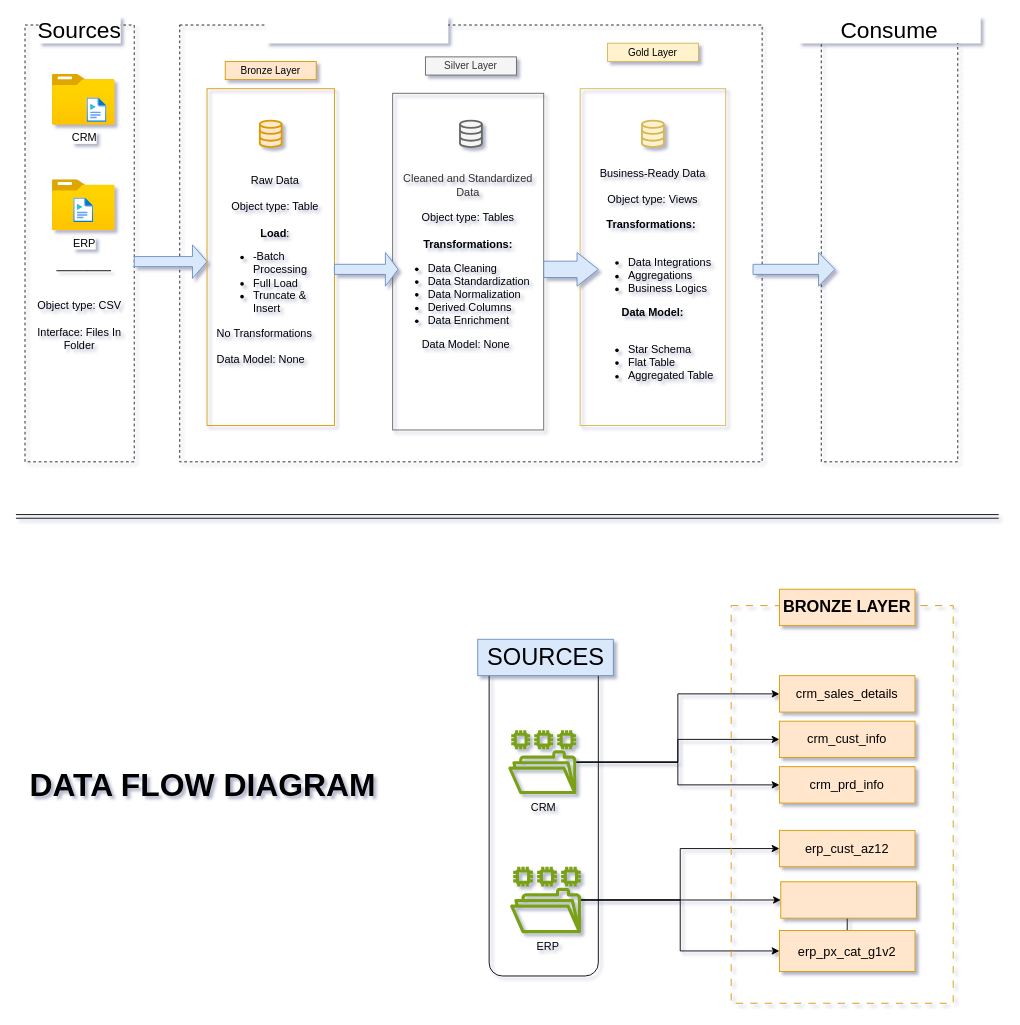
This 1020x1025 diagram has some shape labels left out. The shapes that lost their labels are listed below. From the top down, each one's box as (x1, y1, x2, y2) in pixels, then its label:
(266, 15, 448, 43): Data Warehouse
(820, 24, 958, 462): BI & Reporting Ad-Hoc SQL Queries Machine Learning
(780, 881, 916, 918): erp_loc_a101
